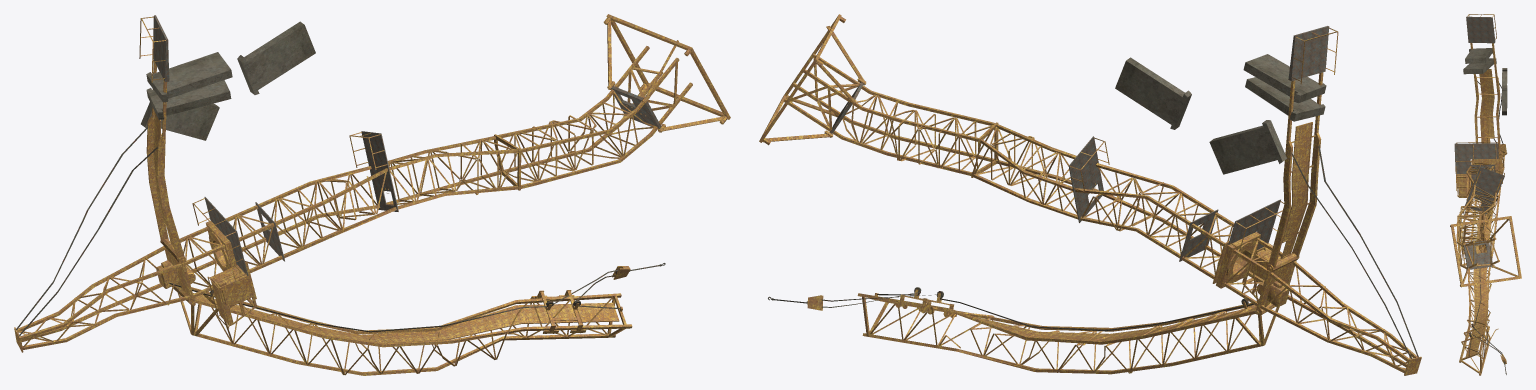
The model's file is kran_destroy.obj.
3 renders of one model, left to right at view 1: azimuth 30°, elevation 25°; view 2: azimuth 150°, elevation 25°; view 3: azimuth 270°, elevation 25°, orthographic. The views are drawn at different scales.
Parts seen in each view (by area): view 1: MDL_Box011; view 2: MDL_Box011; view 3: MDL_Box011.
Part boxes in pixels (left/top/right/bottom): MDL_Box011: left=14, top=14, right=730, bottom=375; MDL_Box011: left=759, top=14, right=1421, bottom=375; MDL_Box011: left=1450, top=14, right=1521, bottom=375.
Size of the model in its own units: 56.69 by 33.71 by 9.29.
Materials: 4 (4 with a texture image).
